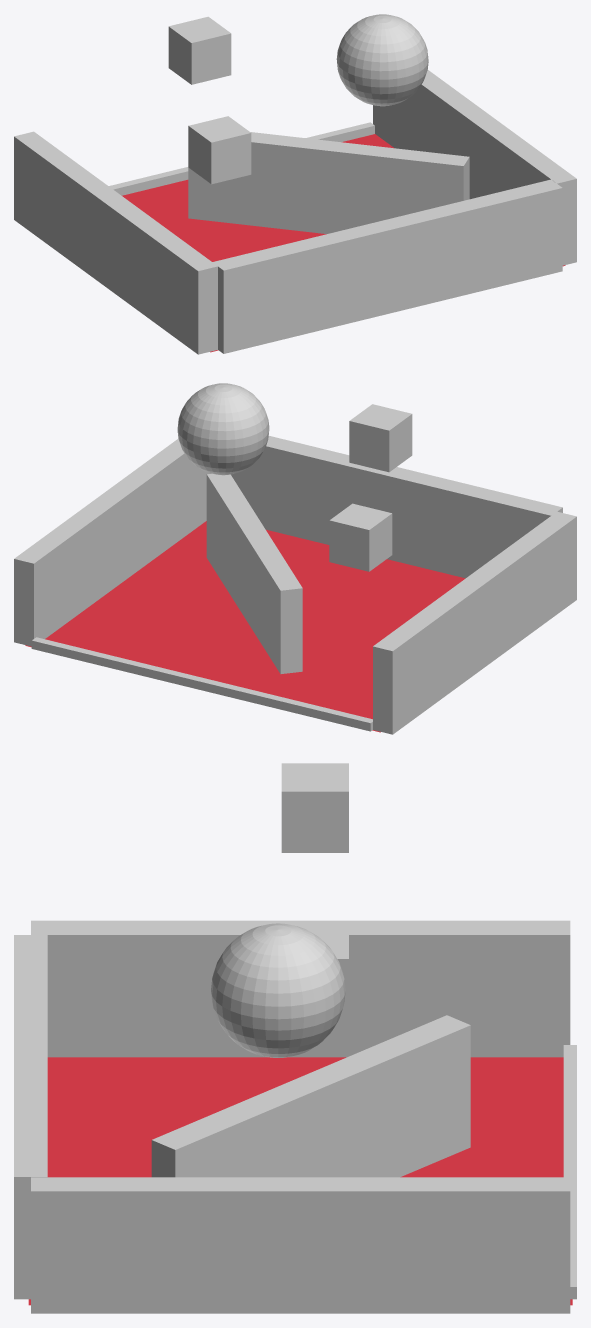
The picture shows the model from 3 angles, top to bottom: view 1: azimuth 30°, elevation 25°; view 2: azimuth 150°, elevation 25°; view 3: azimuth 270°, elevation 25°; orthographic projection. The views are drawn at different scales.
Parts seen in each view (by area): view 1: Wall.002, Wall.001, Wall.003, Wall, Sphere, Plane, Cube, Cube.001, Wall.004; view 2: Plane, Wall.002, Wall.001, Wall, Wall.003, Sphere, Wall.004, Cube.001, Cube; view 3: Wall, Wall.001, Plane, Wall.003, Sphere, Wall.002, Cube.001, Wall.004, Cube.
Boxes of the visible parts, x1,y1,x2,y2 form: Wall.002: (212, 179, 562, 353); Wall.001: (14, 131, 217, 354); Wall.003: (188, 132, 469, 233); Wall: (373, 70, 576, 265); Sphere: (336, 14, 428, 106); Plane: (122, 134, 565, 352); Cube: (188, 116, 251, 184); Cube.001: (168, 16, 231, 84); Wall.004: (109, 122, 374, 195); Plane: (25, 521, 465, 732); Wall.002: (231, 436, 562, 578); Wall.001: (373, 511, 576, 734); Wall: (14, 438, 211, 646); Wall.003: (206, 473, 302, 673); Sphere: (177, 383, 269, 475); Wall.004: (31, 637, 372, 731); Cube.001: (349, 404, 412, 472); Cube: (329, 503, 392, 571); Wall: (31, 1177, 570, 1313); Wall.001: (31, 920, 570, 1057); Plane: (28, 1057, 572, 1305); Wall.003: (151, 1015, 470, 1177); Sphere: (211, 923, 345, 1057); Wall.002: (14, 935, 47, 1299); Cube.001: (281, 763, 348, 852); Wall.004: (563, 1045, 576, 1299); Cube: (308, 930, 348, 1019).
Size of the model in its own units: 9.5 by 5.5 by 8.35.
